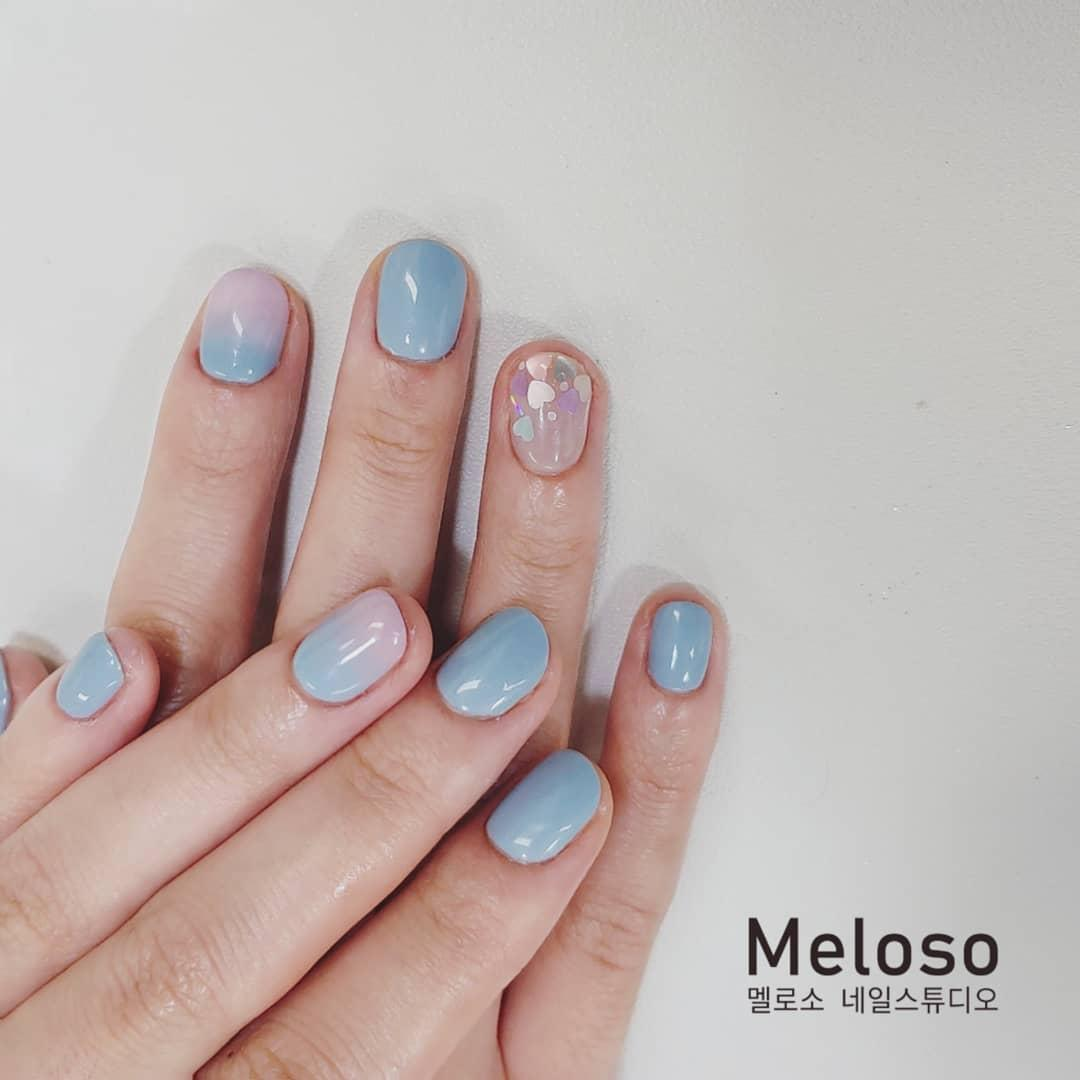nail: (289, 585, 408, 707), (483, 747, 602, 865), (434, 604, 550, 720), (373, 237, 468, 363), (505, 350, 593, 477), (197, 265, 290, 385), (644, 598, 713, 694), (54, 630, 125, 721), (0, 644, 50, 733)
